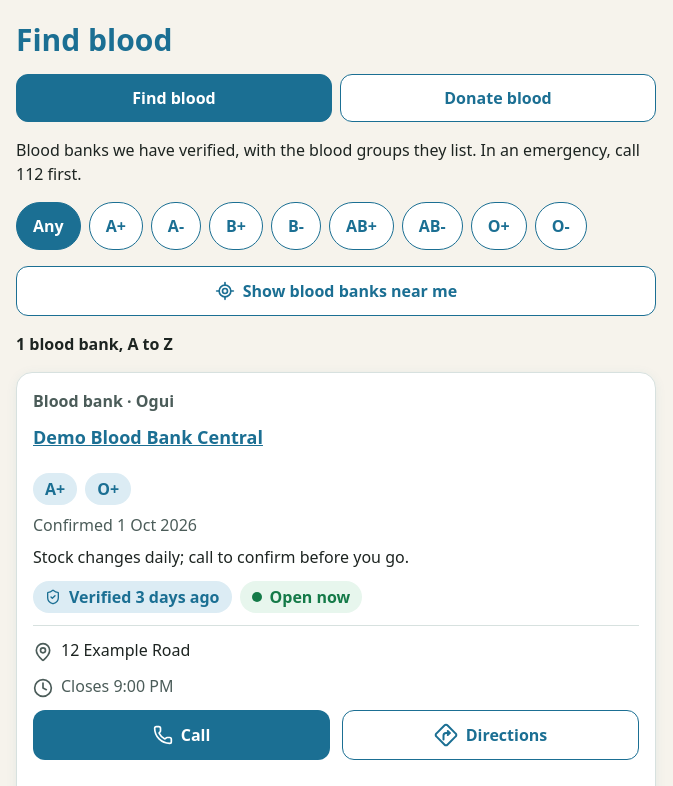
Test: Find blood › says the position could not be used and keeps the A to Z list when it is refused
The image size is (673, 786).
What coordinates should you click on to do the following:
click the button "Show blood banks near me"
I would click on:
 (336, 291)
Its box is [16,266,656,316].
(page scrolled)
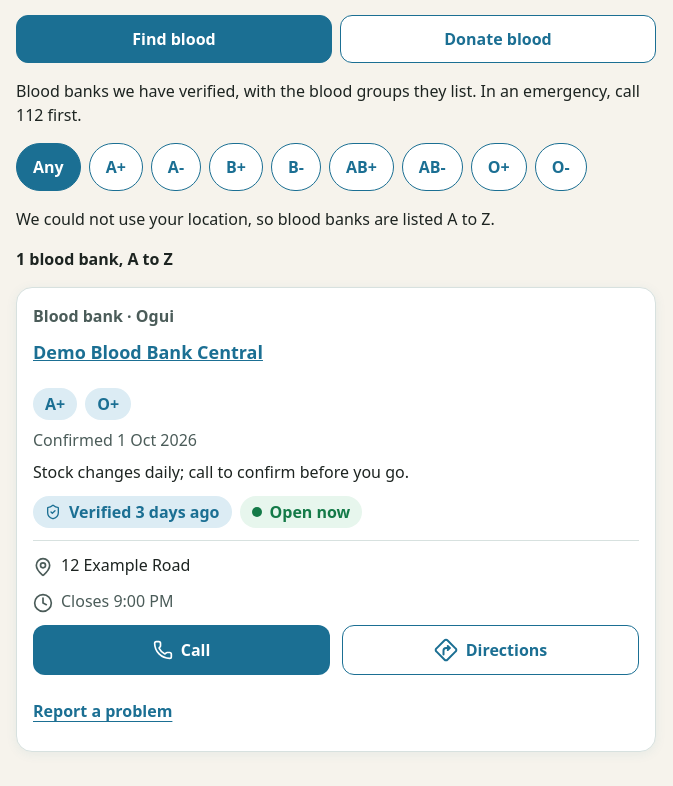
Check: the element that starts with "Blood bank · Ogui" is shown, box [16,287,656,752]
Check: the text "We could not use your location, so blood banks are listed A to Z." is shown, box [16,208,495,230]
